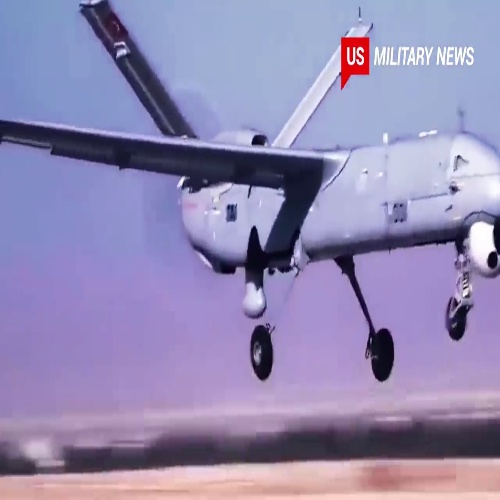uav: (2, 1, 500, 382)
